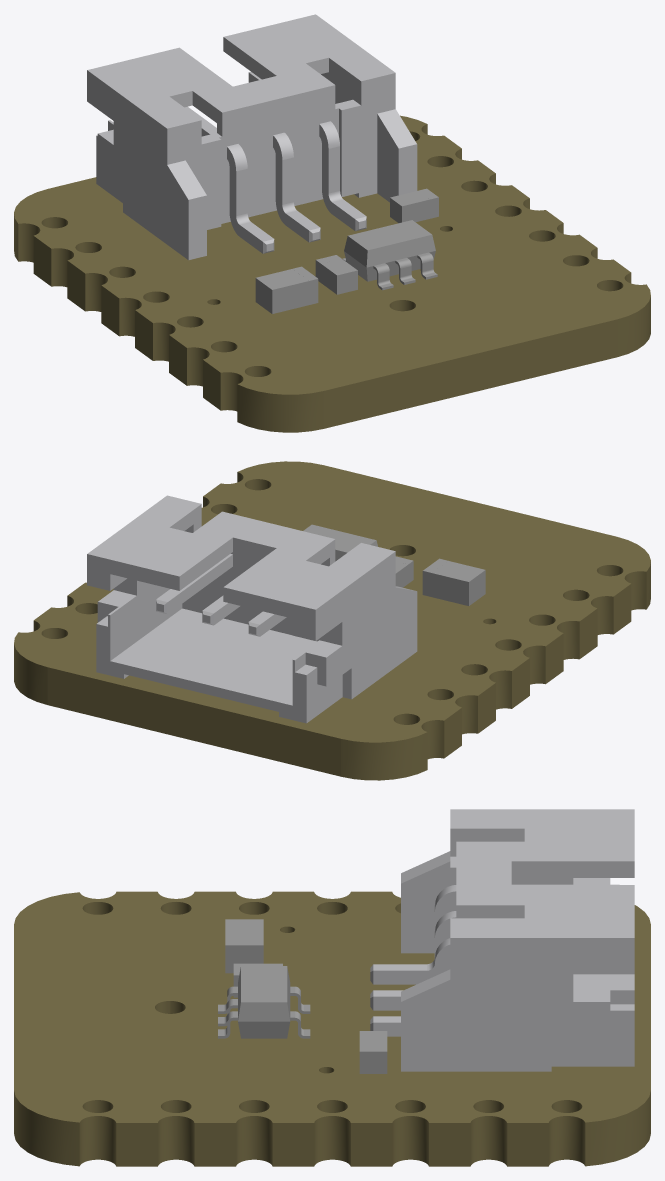
Rendered from ada-5645.glb.
3 views of the same model, one above another, from view 1: azimuth 30°, elevation 25°; view 2: azimuth 150°, elevation 25°; view 3: azimuth 270°, elevation 25° (orthographic). The views are drawn at different scales.
Parts seen in each view (by area): view 1: 0.16666666666666666_0.16666666666666666_0.08333333333333333_, 0.5833333333333334_0.5833333333333334_0.5833333333333334_0.8, 0.3333333333333333_0.3333333333333333_0.3333333333333333_0; view 2: 0.16666666666666666_0.16666666666666666_0.08333333333333333_, 0.5833333333333334_0.5833333333333334_0.5833333333333334_0.8, 0.3333333333333333_0.3333333333333333_0.3333333333333333_0; view 3: 0.16666666666666666_0.16666666666666666_0.08333333333333333_, 0.5833333333333334_0.5833333333333334_0.5833333333333334_0.8, 0.3333333333333333_0.3333333333333333_0.3333333333333333_0.
Part boxes in pixels (x1,y1,x2,y2): 0.16666666666666666_0.16666666666666666_0.08333333333333333_: (14, 115, 650, 432); 0.5833333333333334_0.5833333333333334_0.5833333333333334_0.8: (87, 14, 417, 260); 0.3333333333333333_0.3333333333333333_0.3333333333333333_0: (255, 188, 438, 313); 0.16666666666666666_0.16666666666666666_0.08333333333333333_: (14, 461, 650, 780); 0.5833333333333334_0.5833333333333334_0.5833333333333334_0.8: (87, 495, 417, 723); 0.3333333333333333_0.3333333333333333_0.3333333333333333_0: (303, 524, 485, 605); 0.16666666666666666_0.16666666666666666_0.08333333333333333_: (14, 891, 650, 1166); 0.5833333333333334_0.5833333333333334_0.5833333333333334_0.8: (370, 809, 634, 1071); 0.3333333333333333_0.3333333333333333_0.3333333333333333_0: (218, 919, 387, 1073).
Bounding box in the file's own units: 1.78 × 0.6369 × 2.07.
